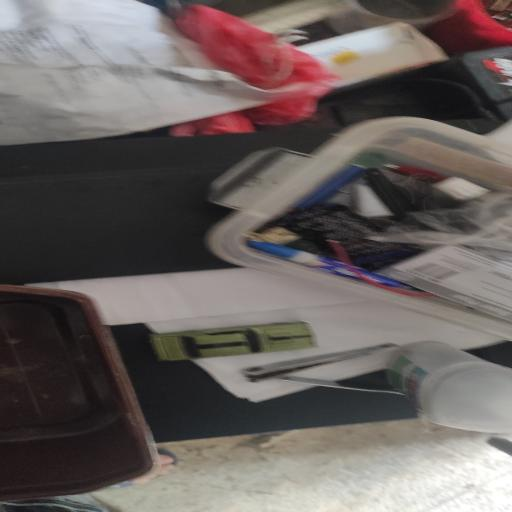Carrito: (151, 322, 316, 361)
